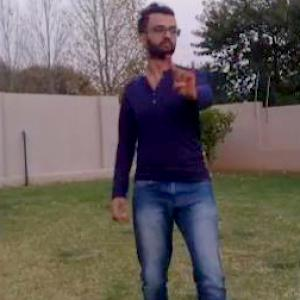takeoff-hand: (162, 50, 206, 98)
